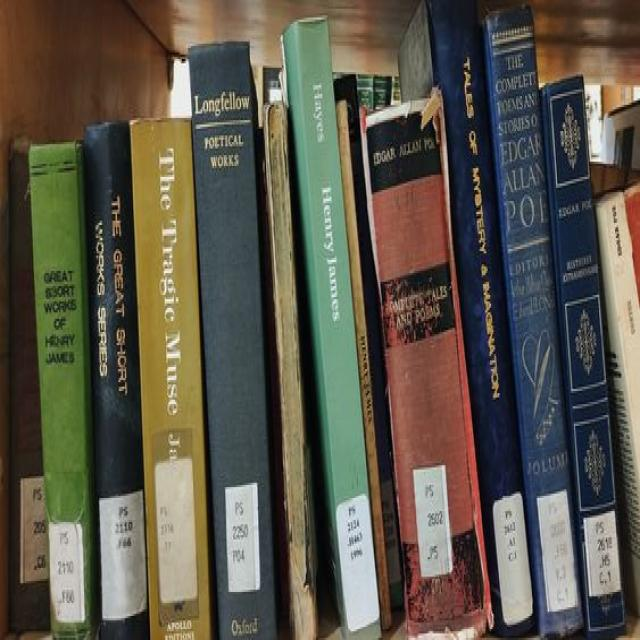book: (423, 0, 538, 637), (361, 100, 491, 640), (486, 0, 584, 637), (285, 15, 383, 640), (189, 42, 277, 639), (544, 75, 625, 639), (131, 116, 210, 640), (84, 120, 150, 637), (27, 142, 91, 640), (263, 107, 317, 640), (8, 140, 50, 635)
